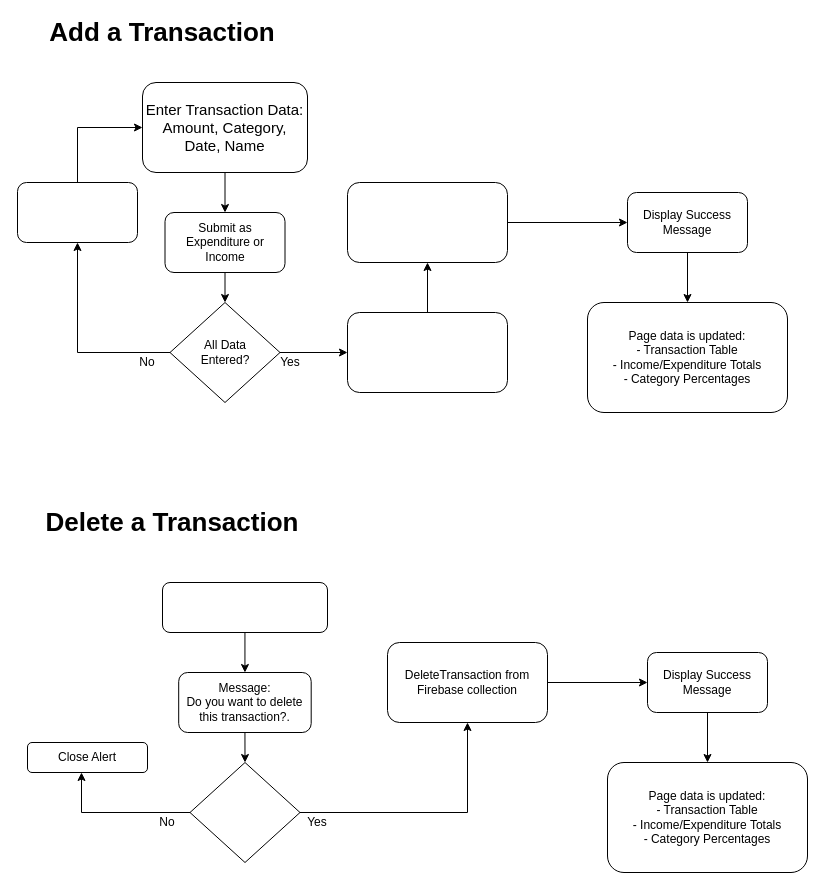
The diagram is 825 pixels wide and 890 high, and some of its shapes have lost their labels. Each missing label, with the box of its shape:
Click Trash Icon on Transaction row: (162, 582, 328, 632)
Confirmed?: (189, 762, 300, 862)
Format inputAmount as Number and inputDate as Data for saving in Firebase: (346, 312, 508, 392)
Message: Please complete all required fields.: (16, 182, 138, 242)
Save Transaction to Firebase: Amount, Category, Date, Name and Type: (346, 182, 508, 262)
